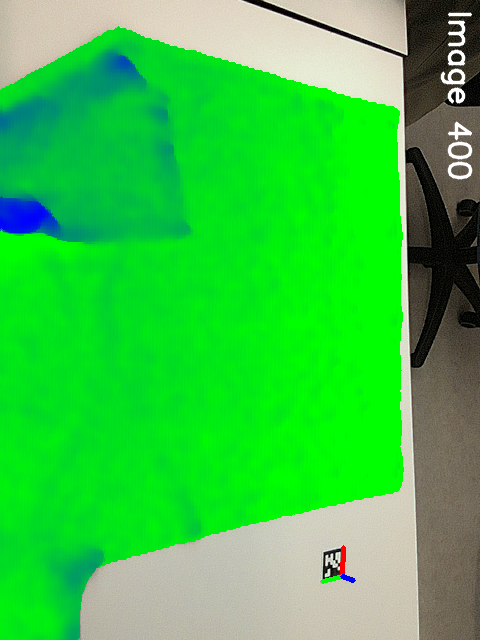V: (141, 191, 209, 252)
